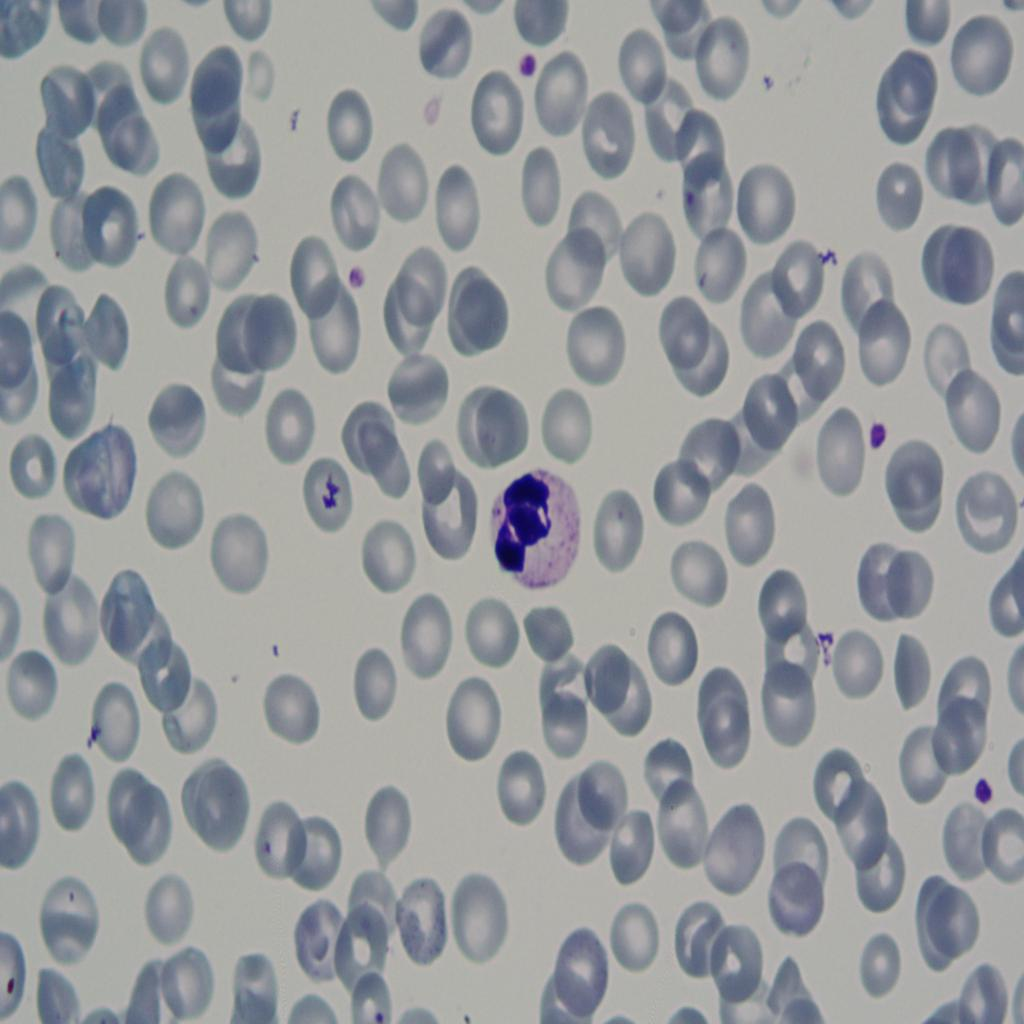Neutrofil: (474, 448, 591, 600)
Platelet: (853, 412, 891, 461), (330, 256, 372, 300), (965, 772, 998, 823), (509, 45, 537, 82)
